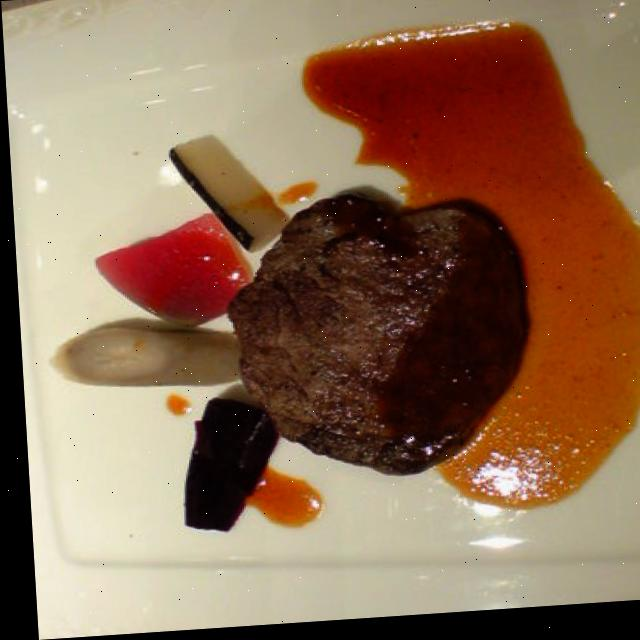牛肉菜式: (66, 231, 505, 496)
